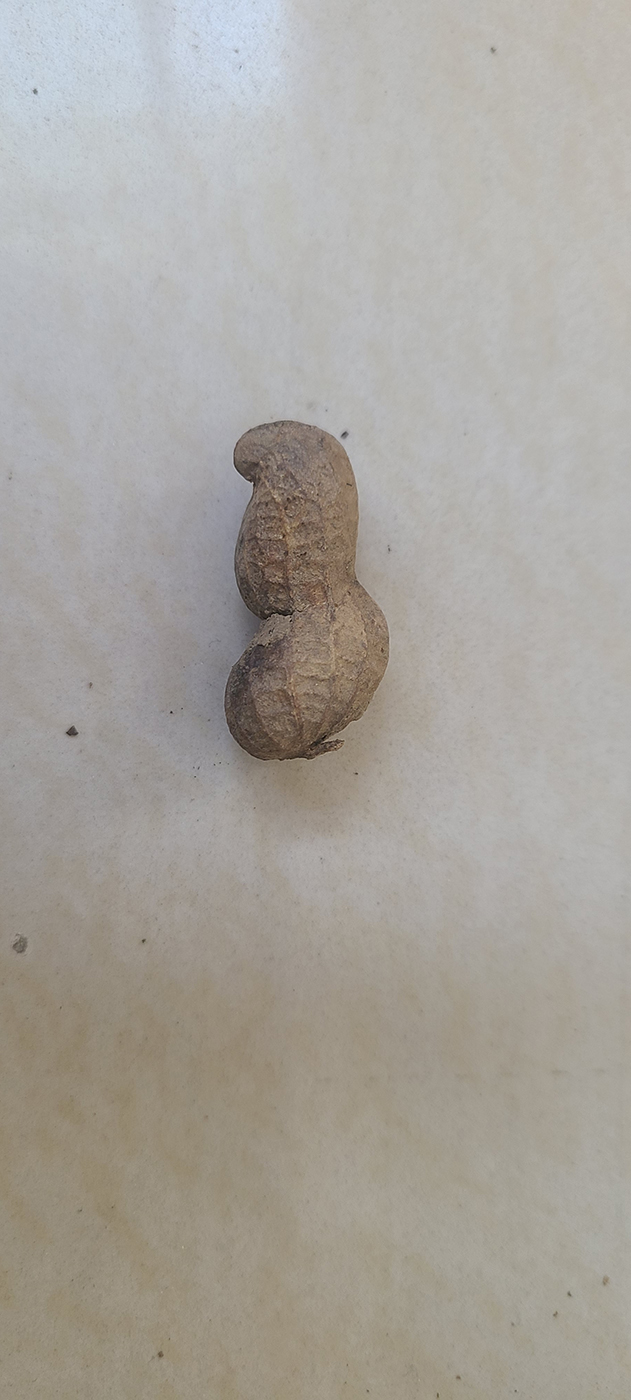l: (226, 419, 392, 760)
